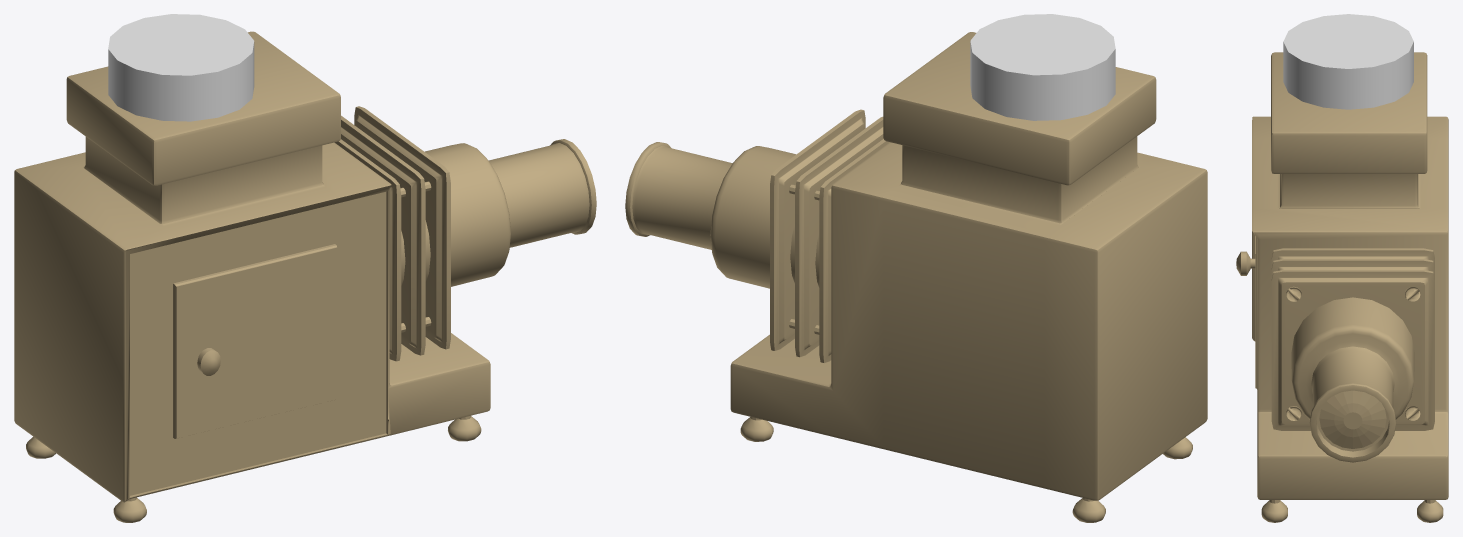
Rendered from camara_V2.fbx.
3 renders of one model, left to right at view 1: azimuth 30°, elevation 25°; view 2: azimuth 150°, elevation 25°; view 3: azimuth 270°, elevation 25°, orthographic. The views are drawn at different scales.
Parts seen in each view (by area): view 1: Caja, Rueda; view 2: Caja, Rueda; view 3: Caja, Rueda.
Part boxes in pixels (bbox=[...]): Caja: bbox=[14, 31, 596, 522]; Rueda: bbox=[108, 14, 254, 121]; Caja: bbox=[625, 32, 1207, 522]; Rueda: bbox=[970, 14, 1115, 120]; Caja: bbox=[1236, 52, 1448, 522]; Rueda: bbox=[1283, 14, 1413, 109].
Bounding box in the file's own units: 83.27 × 34.18 × 65.97.
